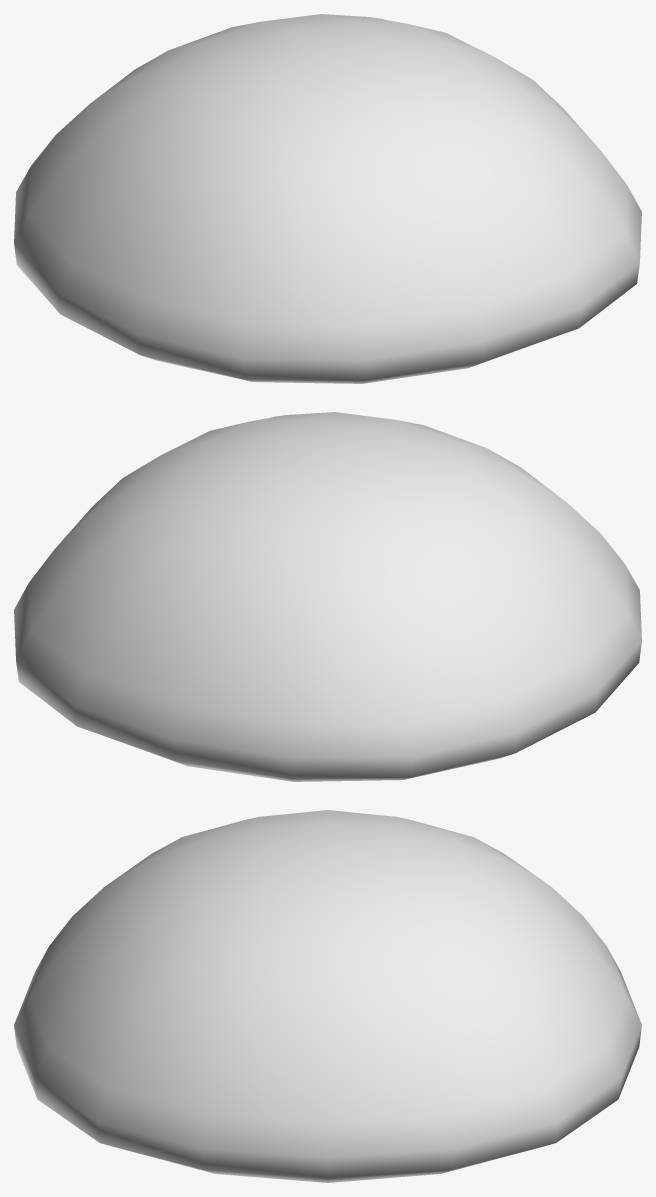
The model's file is round.gltf.
3 views of the same model, one above another, from view 1: azimuth 30°, elevation 25°; view 2: azimuth 150°, elevation 25°; view 3: azimuth 270°, elevation 25° (orthographic).
Visible parts, largest first — view 1: FoodIngredient_Rice; view 2: FoodIngredient_Rice; view 3: FoodIngredient_Rice.
Boxes of the visible parts, box(x1,y1,x2,y2) form: FoodIngredient_Rice: box(14, 14, 641, 383); FoodIngredient_Rice: box(14, 412, 641, 781); FoodIngredient_Rice: box(14, 810, 641, 1182).
Size of the model in its own units: 1.08 by 0.4459 by 1.08.
Materials: 1 (1 with a texture image).
